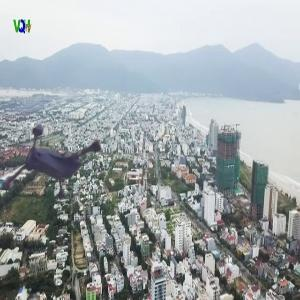drone: (5, 94, 124, 213)
